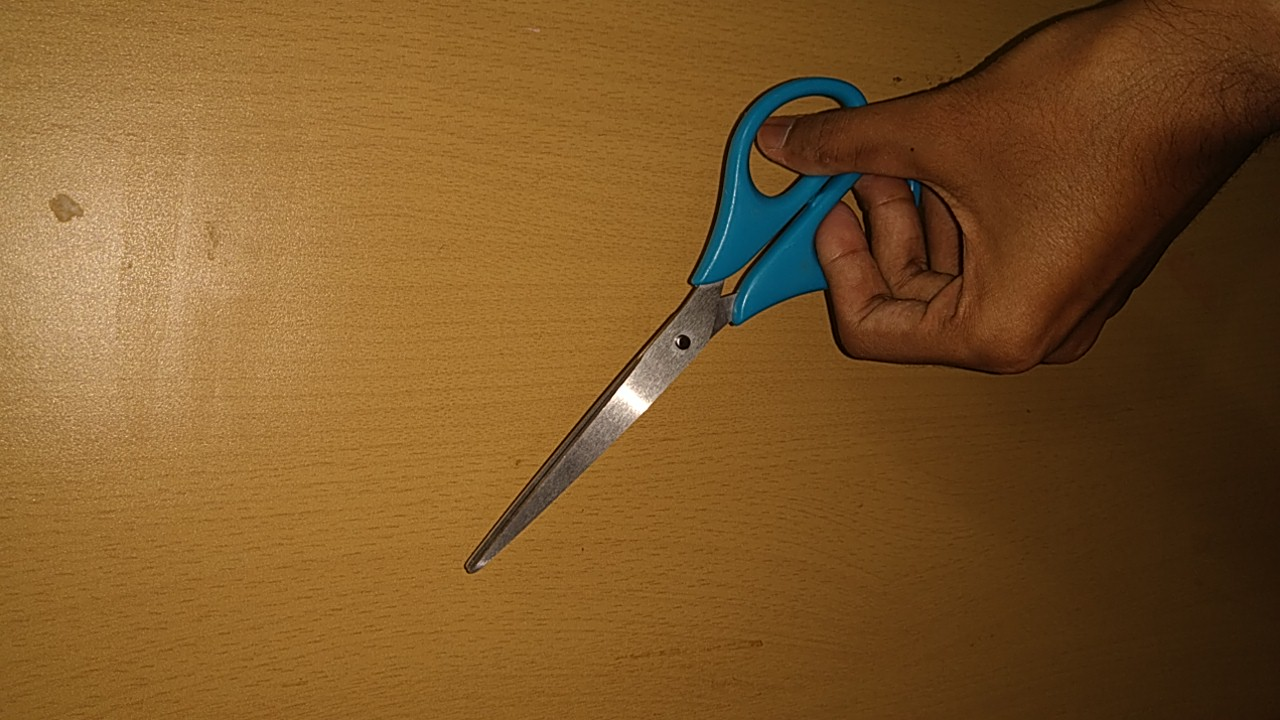scissor: (426, 54, 944, 607)
